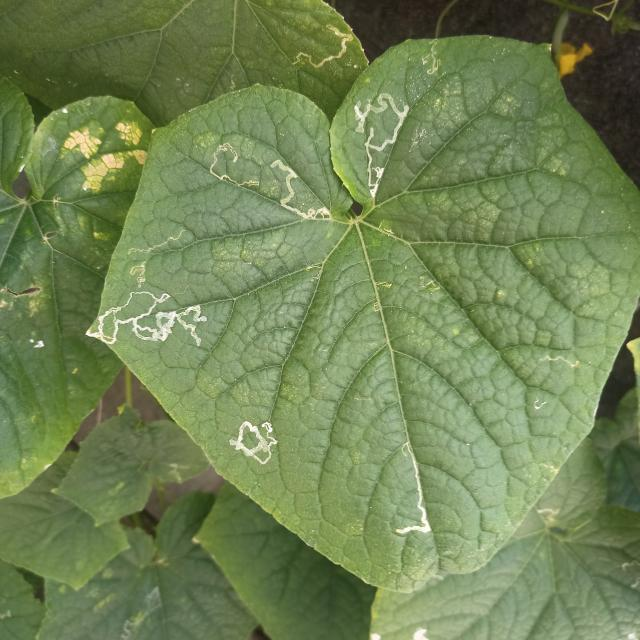disease_cucumber: (60, 118, 150, 190)
